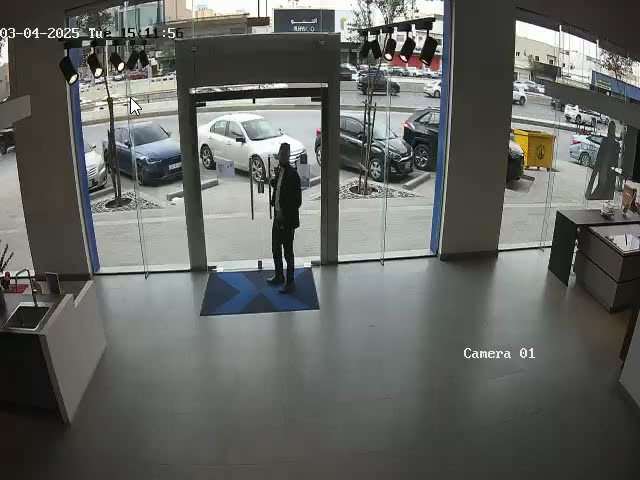male: (265, 142, 303, 292)
